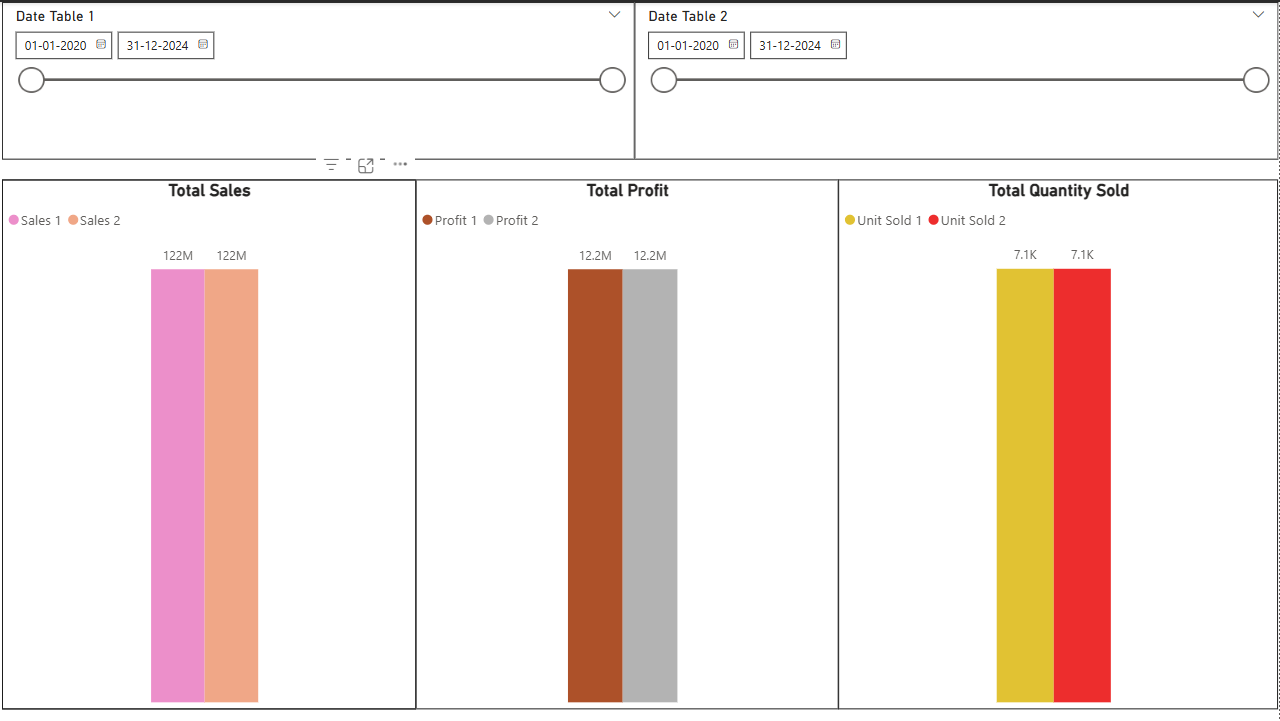

The page's visual inventory and layout, read from the dashboard file:
{"tool":"powerbi","page":{"name":"Requirement 4","canvas":[1280,720],"ordinal":2},"visuals":[{"type":"slicer","fields":{"Values":["Date Table 1.Date"]},"box":[10,0,629.4,156.7],"z":0},{"type":"slicer","fields":{"Values":["Date Table 2.Date"]},"box":[639.4,0,640.6,156.7],"z":1000},{"type":"clusteredColumnChart","title":"Total Sales","fields":{"Y":["Date Table 1.Sum of Net Sales","Sum(Fact Table.Net Sales)"]},"box":[10,176.6,411.8,527.4],"z":2000},{"type":"clusteredColumnChart","title":"Total Profit","fields":{"Y":["Sum(Fact Table.Profit)","Measures Table.Net Profit Measures"]},"box":[421.7,176.6,420.5,527.4],"z":3000},{"type":"clusteredColumnChart","title":"Total Quantity Sold","fields":{"Y":["Sum(Fact Table.Units Sold)","Measures Table.Quantity sold measures"]},"box":[842.2,176.6,437.9,527.4],"z":4000}]}

Visuals, with their boxes in screenshot pixels (x1, y1, x2, y2), scaled from the page's 1280x720 canvas onto the 1280x721 screenshot:
slicer - Date Table 1.Date: x1=10, y1=0, x2=639, y2=157
slicer - Date Table 2.Date: x1=639, y1=0, x2=1279, y2=157
"Total Sales" clusteredColumnChart: x1=10, y1=177, x2=422, y2=705
"Total Profit" clusteredColumnChart: x1=422, y1=177, x2=842, y2=705
"Total Quantity Sold" clusteredColumnChart: x1=842, y1=177, x2=1279, y2=705
